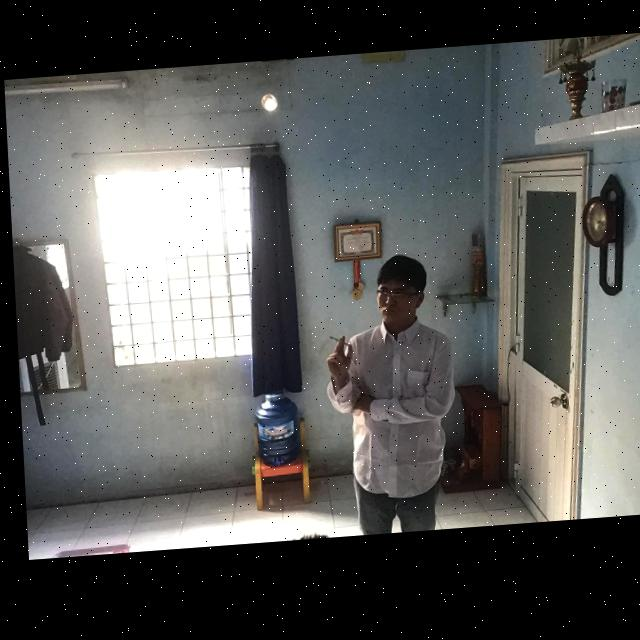cigarette: (324, 339, 350, 355)
